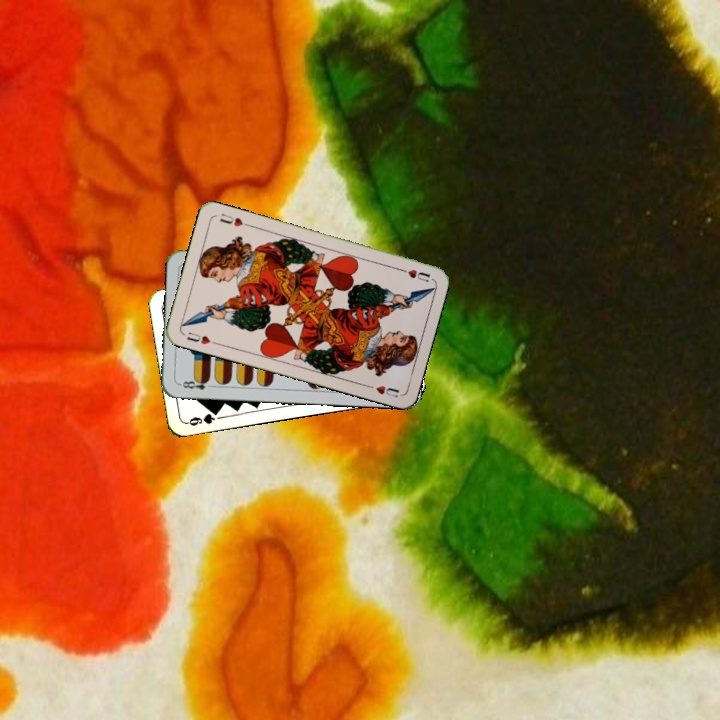E8: (176, 375, 216, 392)
G9: (182, 406, 222, 428)
HU: (394, 264, 433, 284), (183, 328, 220, 347)
